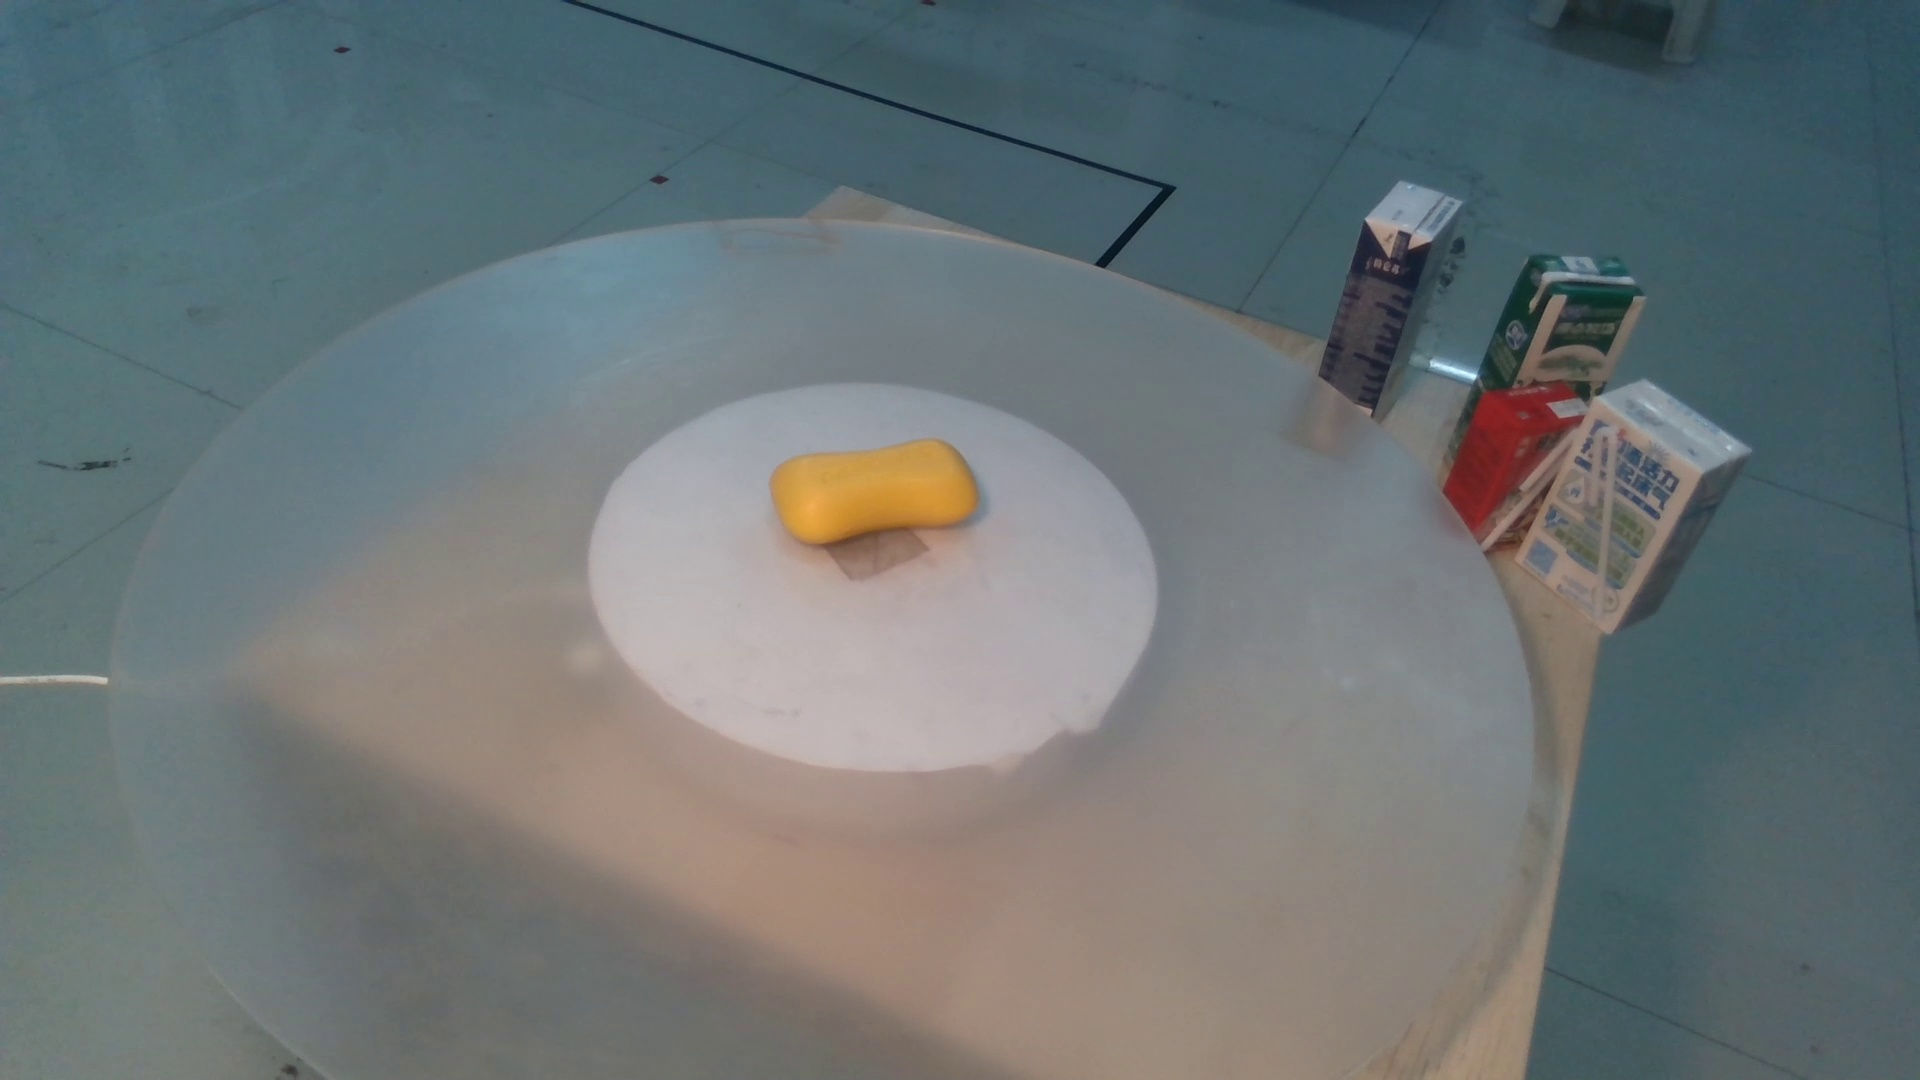CA003_1: (738, 418, 1002, 568)
